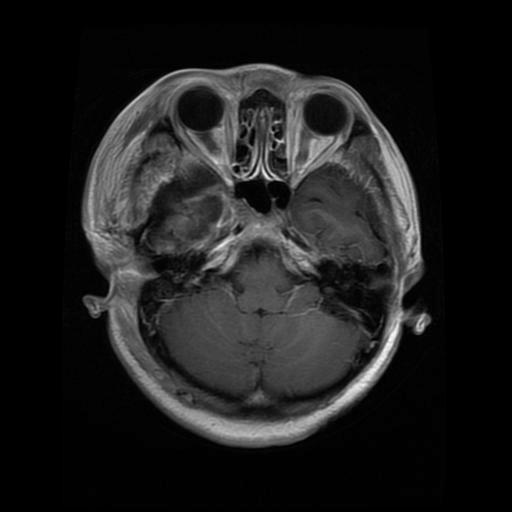Tumour-Glioma: (110, 132, 178, 250)
